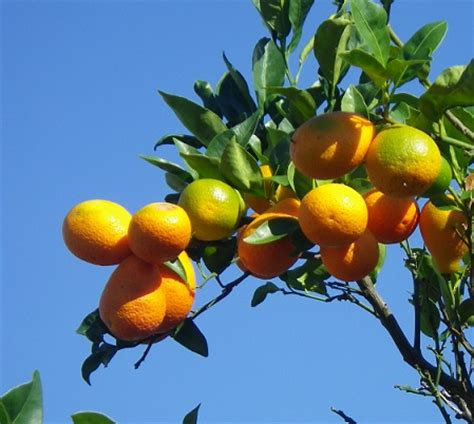orange: (367, 121, 441, 200), (58, 197, 137, 267), (300, 181, 368, 249), (127, 200, 193, 264)
